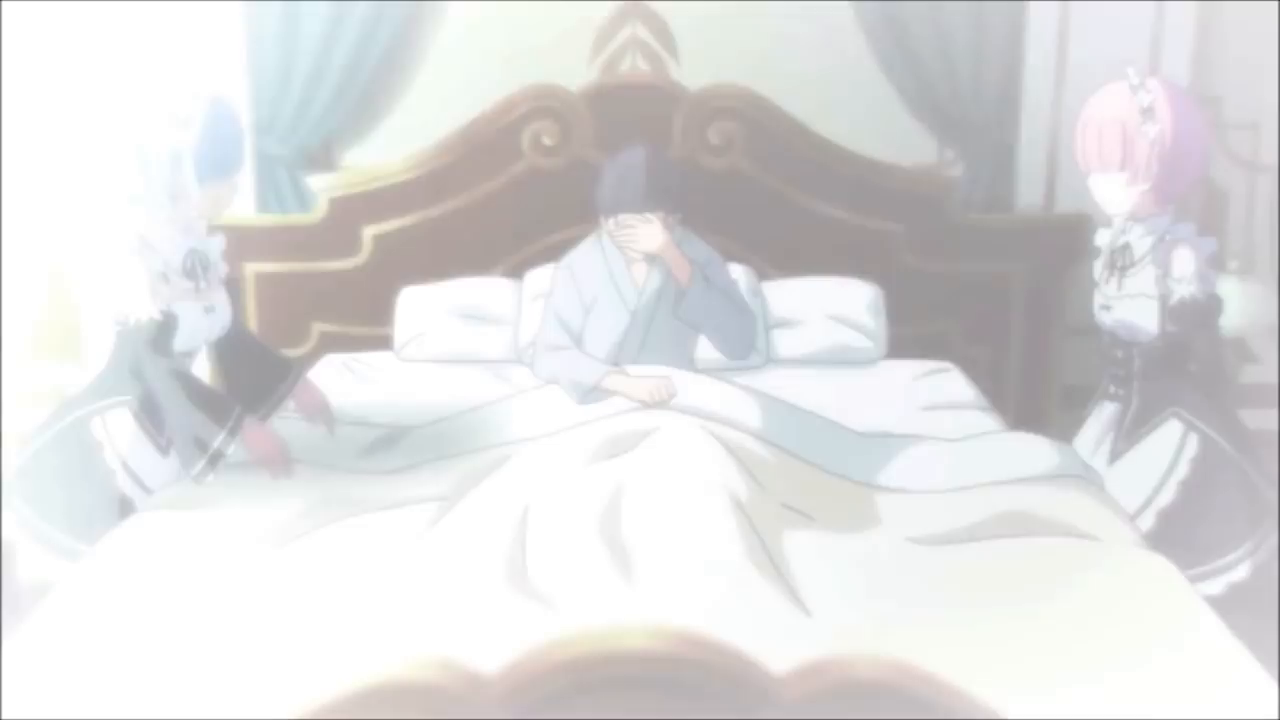REM: (94, 88, 248, 233)
